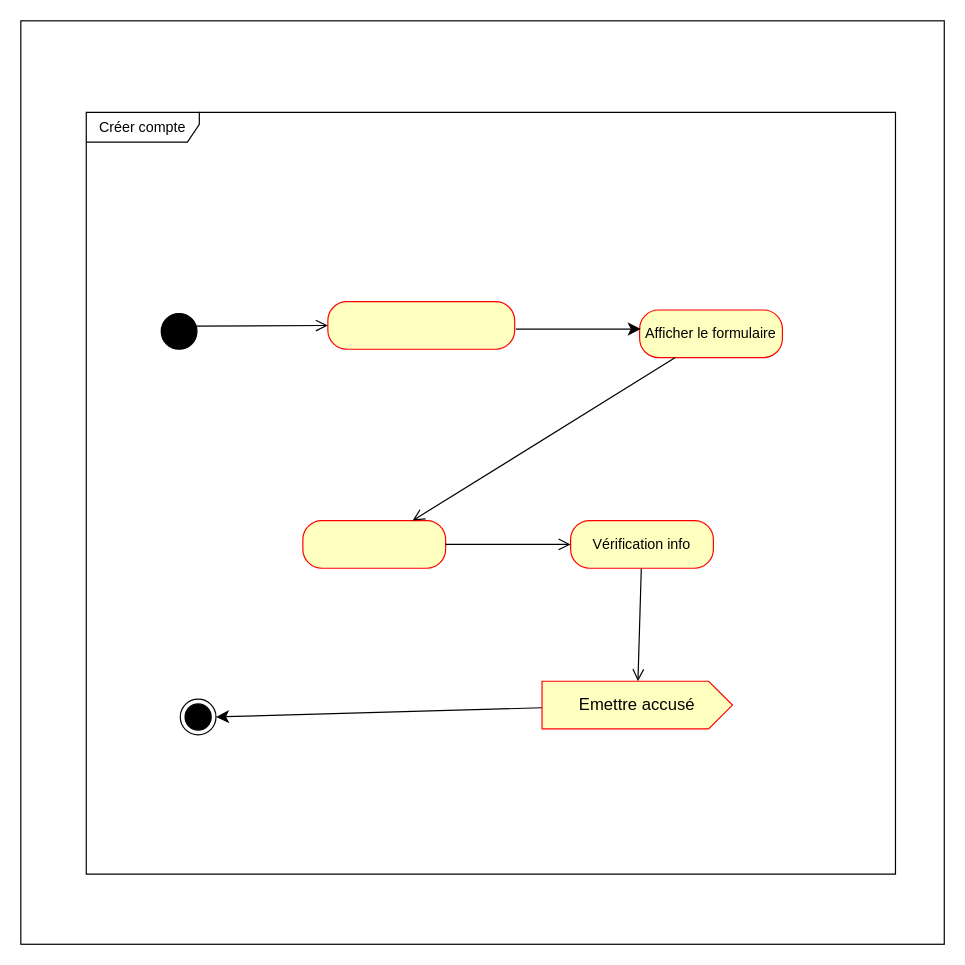
Some shapes in this 965 by 965 pixel diagram are drawn without their labels. The box of each missing label's shape, as (x1, y1, x2, y2) in pixels:
Demander création compte: (327, 300, 515, 349)
Valider formulaire: (302, 519, 446, 568)
